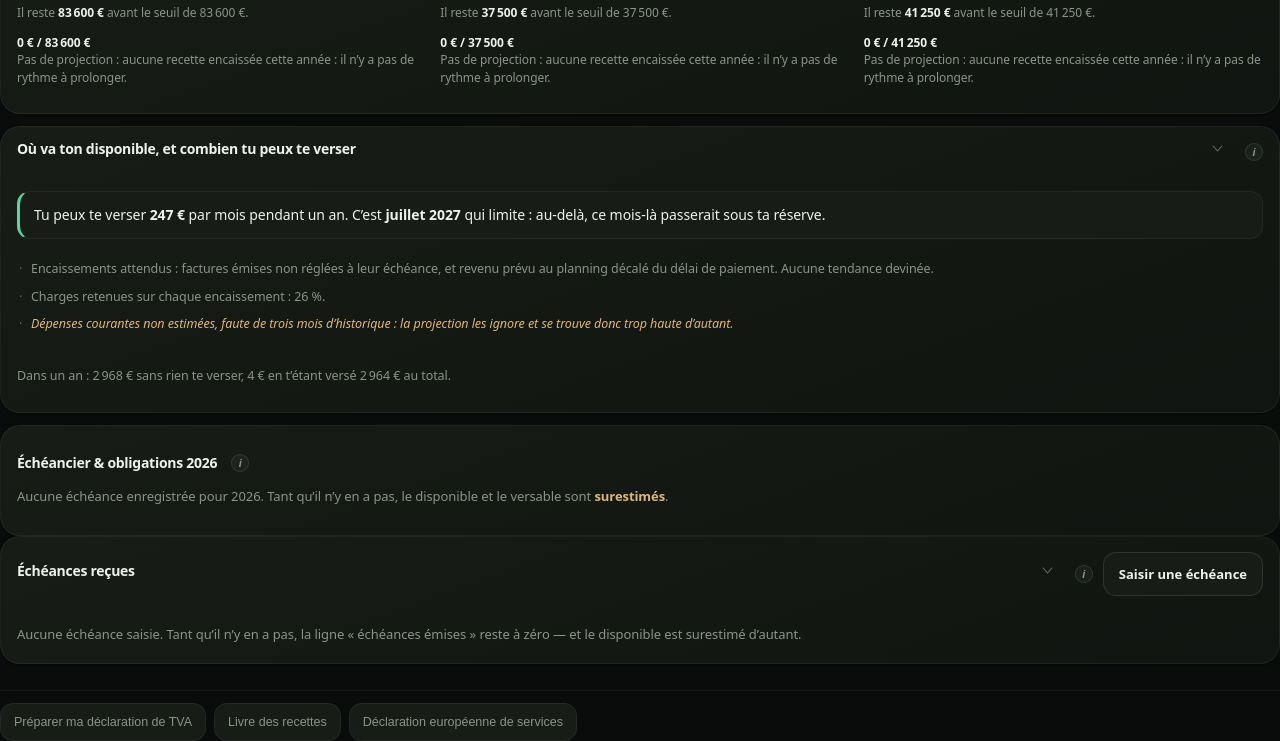
Test case: prestations à déclarer › ne déclare rien pour un client français
This screenshot has width=1280, height=741.
(page scrolled)
Click the button "Déclaration européenne de services" at (463, 722), box [349,703,577,740]
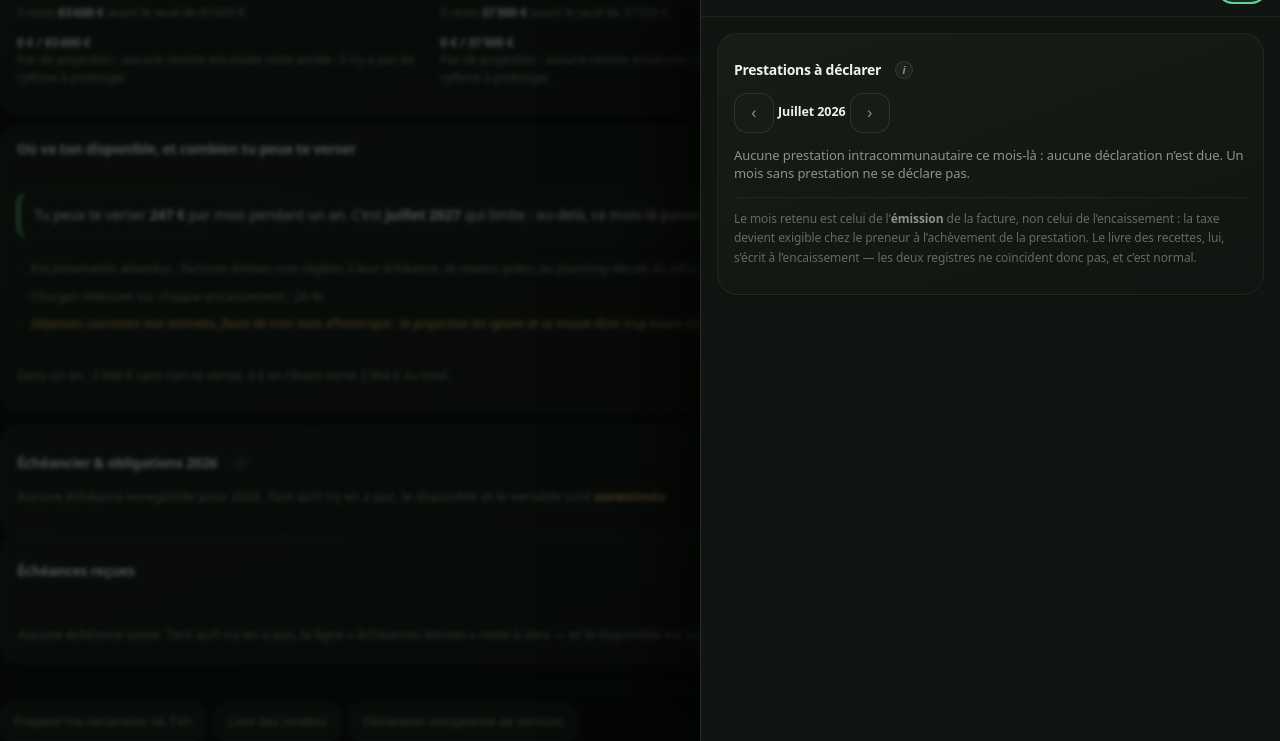
expect the heading "Prestations à déclarer" is shown: met, box [734,60,881,79]
expect the text "Aucune prestation intracommunautaire" is shown: met, box [734,146,1244,182]
